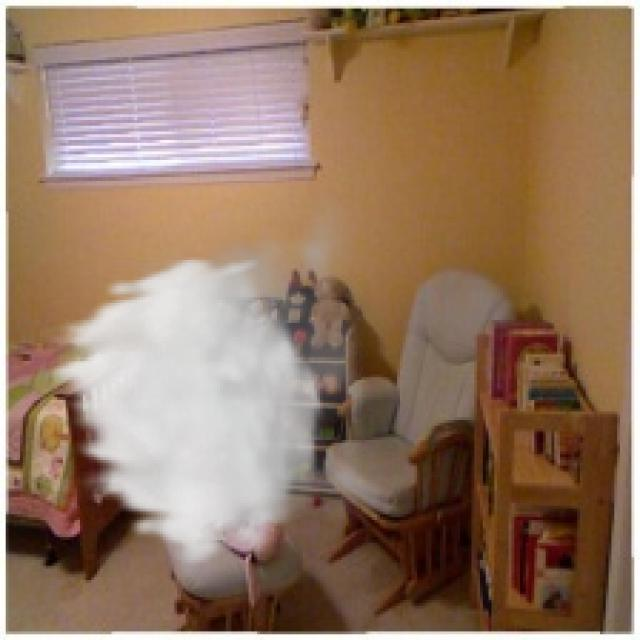smoke: (40, 188, 391, 568)
